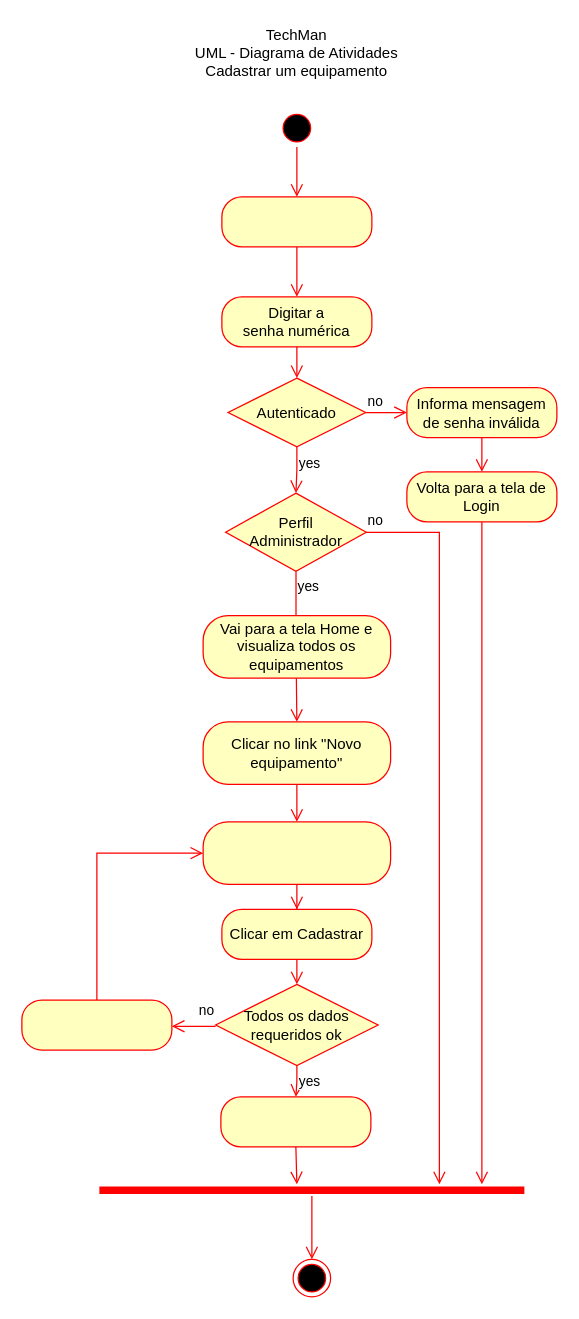
Some shapes in this 579 by 1319 pixel diagram are drawn without their labels. The shapes that lost their labels are listed below. From the top down, each one's box as (x1, y1, x2, y2) in pixels, then its label:
(221, 196, 372, 247): Acessar tela de login
(202, 821, 391, 884): Preencher os campos da janela modal
(21, 999, 172, 1050): Ver mensagem de erro
(220, 1096, 371, 1147): Ver mensagem de sucesso
